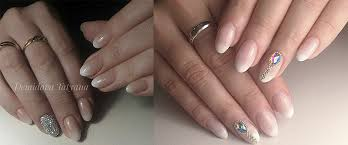nail: (258, 51, 284, 83), (232, 117, 262, 144), (234, 39, 257, 73), (272, 89, 296, 118), (214, 21, 234, 54), (296, 37, 320, 62), (257, 110, 280, 136), (78, 53, 103, 76), (63, 116, 85, 141), (205, 116, 228, 139), (39, 113, 61, 136), (77, 96, 94, 122), (92, 25, 112, 47), (91, 70, 115, 87), (15, 107, 34, 125), (125, 80, 146, 94), (77, 21, 89, 32)
